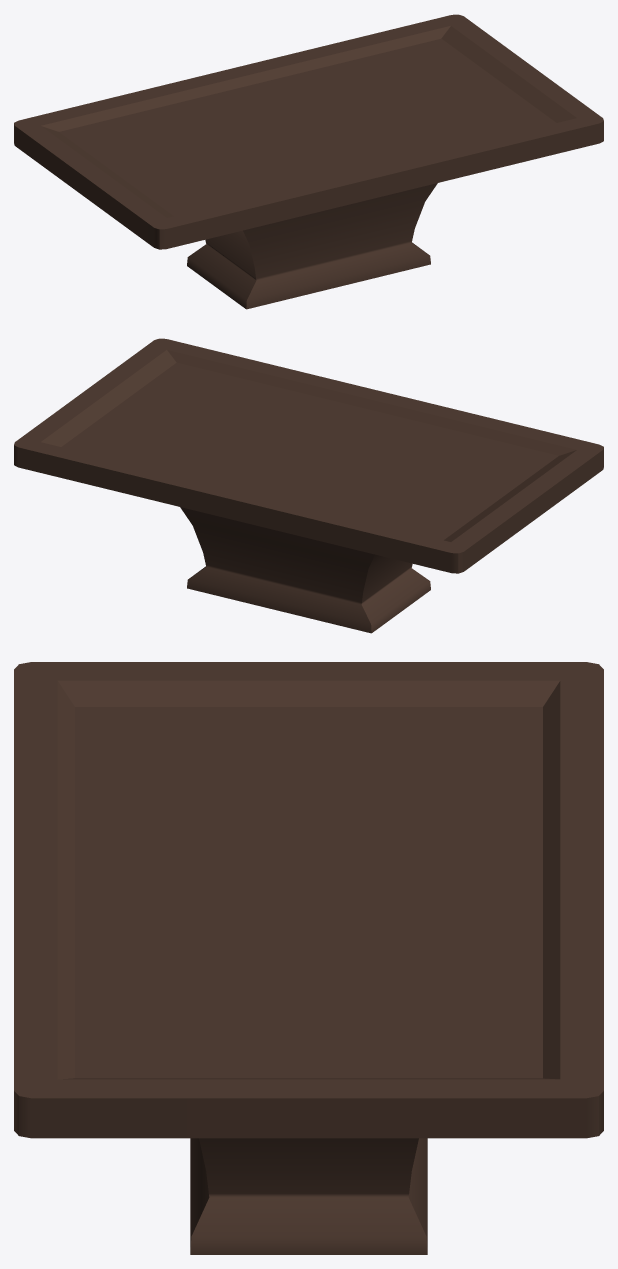
Rendered from hub_coffee_table.fbx.
The picture shows the model from 3 angles, top to bottom: view 1: azimuth 30°, elevation 25°; view 2: azimuth 150°, elevation 25°; view 3: azimuth 270°, elevation 25°; orthographic projection. The views are drawn at different scales.
Parts seen in each view (by area): view 1: hub_coffee_table; view 2: hub_coffee_table; view 3: hub_coffee_table.
Part boxes in pixels (bbox=[...]): hub_coffee_table: bbox=[14, 14, 603, 309]; hub_coffee_table: bbox=[14, 338, 603, 633]; hub_coffee_table: bbox=[14, 662, 603, 1254].
Size of the model in its own units: 2.65 by 0.8078 by 1.52.
